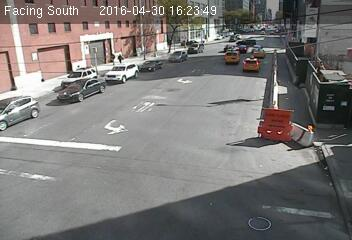neg: (247, 110, 282, 157), (68, 124, 96, 161), (78, 65, 102, 97), (190, 118, 210, 145), (189, 74, 209, 100), (127, 127, 145, 151), (264, 44, 281, 67), (239, 198, 256, 221)
